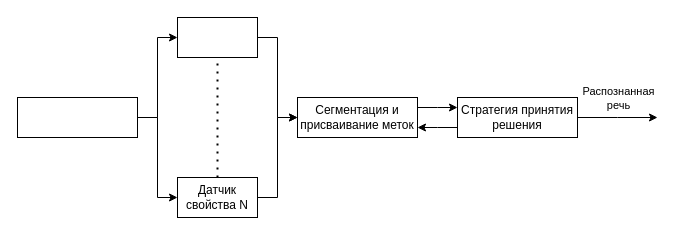
The diagram is 683 pixels wide and 235 high, and some of its shapes have lost their labels. The centre of each missing label's shape, as x and y in pixels:
"Датчик свойства 1" belongs at pixel 217 37.
"Система анализа речи" belongs at pixel 77 117.
